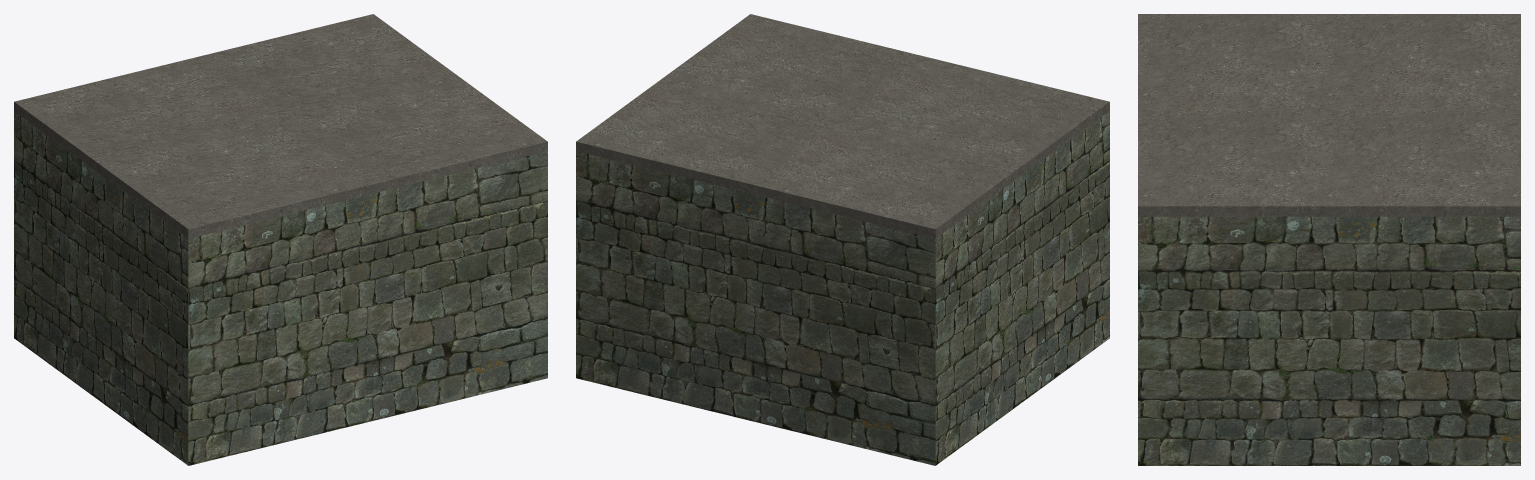
Rendered from SM_Sun_toillet_Kidan_B.fbx.
3 views of the same model, side by side, from view 1: azimuth 30°, elevation 25°; view 2: azimuth 150°, elevation 25°; view 3: azimuth 270°, elevation 25° (orthographic). The views are drawn at different scales.
Visible parts, largest first — view 1: SM_Sun_toillet_Kidan_B; view 2: SM_Sun_toillet_Kidan_B; view 3: SM_Sun_toillet_Kidan_B.
Boxes of the visible parts, x1,y1,x2,y2 form: SM_Sun_toillet_Kidan_B: (14,14,547,465); SM_Sun_toillet_Kidan_B: (576,14,1109,465); SM_Sun_toillet_Kidan_B: (1138,14,1520,465).
Size of the model in its own units: 603 by 379 by 507.
